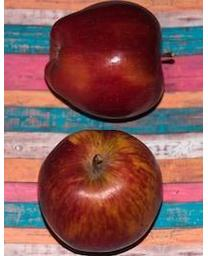apple: (36, 128, 162, 254), (43, 0, 164, 123)
